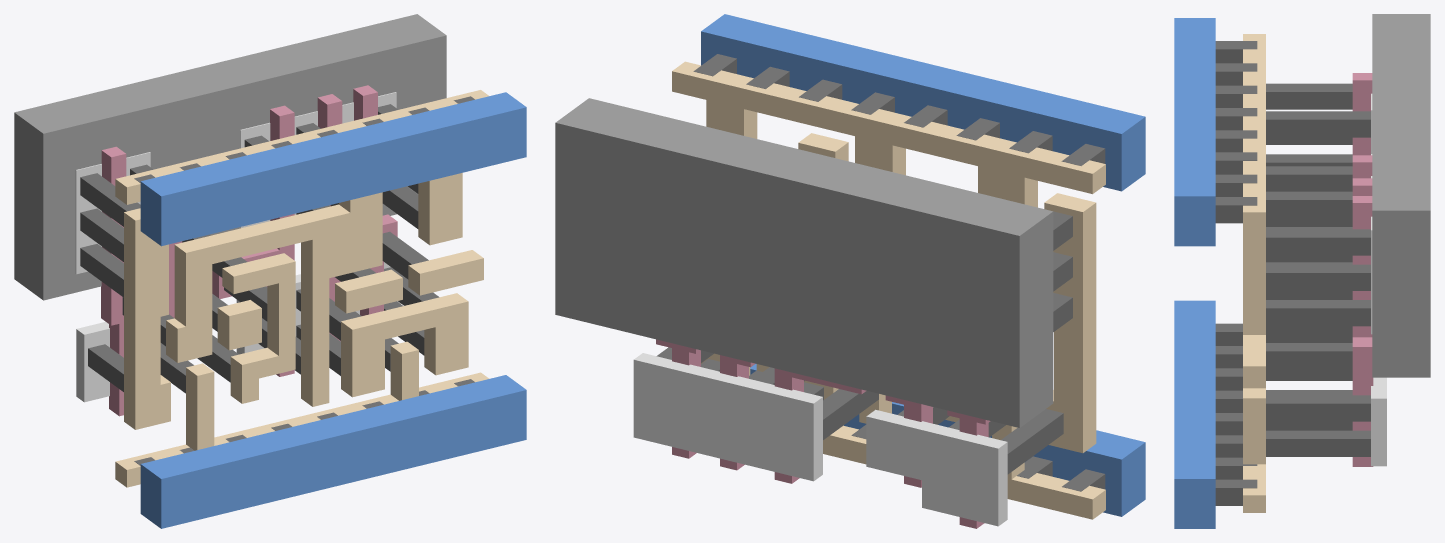
The model's file is sky130_fd_sc_hd__o21ba_1.gds.gltf.
3 views of the same model, side by side, from view 1: azimuth 30°, elevation 25°; view 2: azimuth 150°, elevation 25°; view 3: azimuth 270°, elevation 25° (orthographic). The views are drawn at different scales.
Parts seen in each view (by area): view 1: sky130_fd_sc_hd__o21ba_1_li1, sky130_fd_sc_hd__o21ba_1_met1, sky130_fd_sc_hd__o21ba_1_nwell, sky130_fd_sc_hd__o21ba_1_licon, sky130_fd_sc_hd__o21ba_1_poly, sky130_fd_sc_hd__o21ba_1_diff, sky130_fd_sc_hd__o21ba_1_mcon; view 2: sky130_fd_sc_hd__o21ba_1_nwell, sky130_fd_sc_hd__o21ba_1_li1, sky130_fd_sc_hd__o21ba_1_met1, sky130_fd_sc_hd__o21ba_1_diff, sky130_fd_sc_hd__o21ba_1_licon, sky130_fd_sc_hd__o21ba_1_mcon, sky130_fd_sc_hd__o21ba_1_poly; view 3: sky130_fd_sc_hd__o21ba_1_licon, sky130_fd_sc_hd__o21ba_1_nwell, sky130_fd_sc_hd__o21ba_1_met1, sky130_fd_sc_hd__o21ba_1_mcon, sky130_fd_sc_hd__o21ba_1_li1, sky130_fd_sc_hd__o21ba_1_poly, sky130_fd_sc_hd__o21ba_1_diff.
Part boxes in pixels (x1=…): sky130_fd_sc_hd__o21ba_1_li1: x1=115, y1=90, x2=489, y2=487; sky130_fd_sc_hd__o21ba_1_met1: x1=140, y1=92, x2=526, y2=528; sky130_fd_sc_hd__o21ba_1_nwell: x1=14, y1=14, x2=446, y2=300; sky130_fd_sc_hd__o21ba_1_licon: x1=80, y1=104, x2=439, y2=393; sky130_fd_sc_hd__o21ba_1_poly: x1=101, y1=85, x2=397, y2=416; sky130_fd_sc_hd__o21ba_1_diff: x1=75, y1=92, x2=400, y2=402; sky130_fd_sc_hd__o21ba_1_mcon: x1=134, y1=96, x2=474, y2=465; sky130_fd_sc_hd__o21ba_1_nwell: x1=555, y1=98, x2=1053, y2=427; sky130_fd_sc_hd__o21ba_1_li1: x1=672, y1=61, x2=1105, y2=519; sky130_fd_sc_hd__o21ba_1_met1: x1=701, y1=14, x2=1145, y2=516; sky130_fd_sc_hd__o21ba_1_diff: x1=633, y1=353, x2=1007, y2=526; sky130_fd_sc_hd__o21ba_1_licon: x1=656, y1=211, x2=1072, y2=474; sky130_fd_sc_hd__o21ba_1_mcon: x1=693, y1=54, x2=1105, y2=491; sky130_fd_sc_hd__o21ba_1_poly: x1=656, y1=339, x2=990, y2=528; sky130_fd_sc_hd__o21ba_1_licon: x1=1266, y1=83, x2=1370, y2=456; sky130_fd_sc_hd__o21ba_1_nwell: x1=1372, y1=14, x2=1430, y2=377; sky130_fd_sc_hd__o21ba_1_met1: x1=1174, y1=18, x2=1215, y2=528; sky130_fd_sc_hd__o21ba_1_mcon: x1=1215, y1=41, x2=1257, y2=505; sky130_fd_sc_hd__o21ba_1_li1: x1=1243, y1=34, x2=1265, y2=512; sky130_fd_sc_hd__o21ba_1_poly: x1=1352, y1=73, x2=1373, y2=466; sky130_fd_sc_hd__o21ba_1_diff: x1=1371, y1=93, x2=1386, y2=466.
Bounding box in the file's own units: 4.06 × 3.2 × 2.24.
